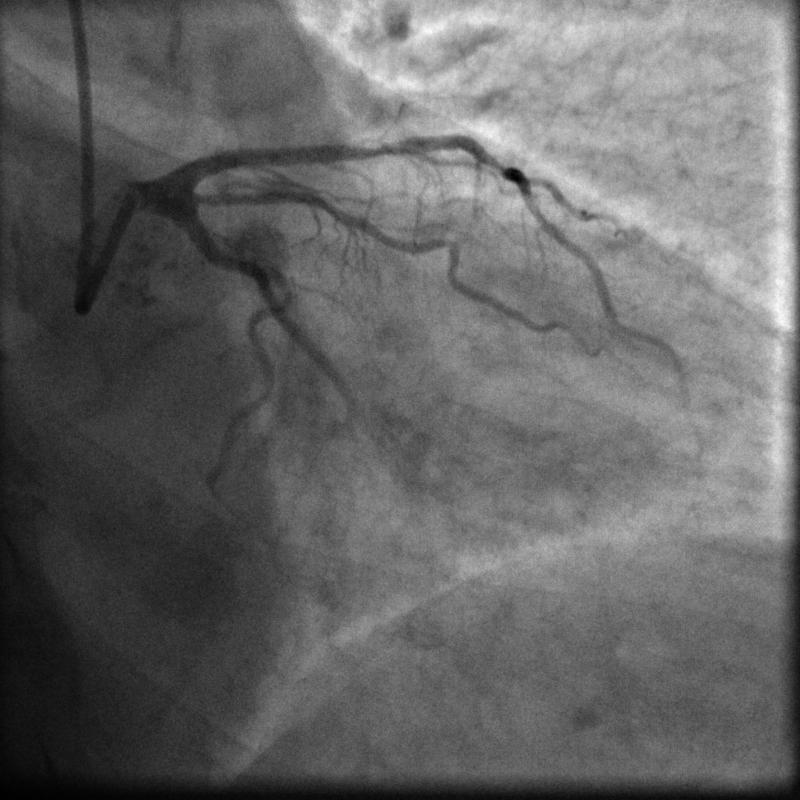Stenosis: (344, 137, 410, 160)
